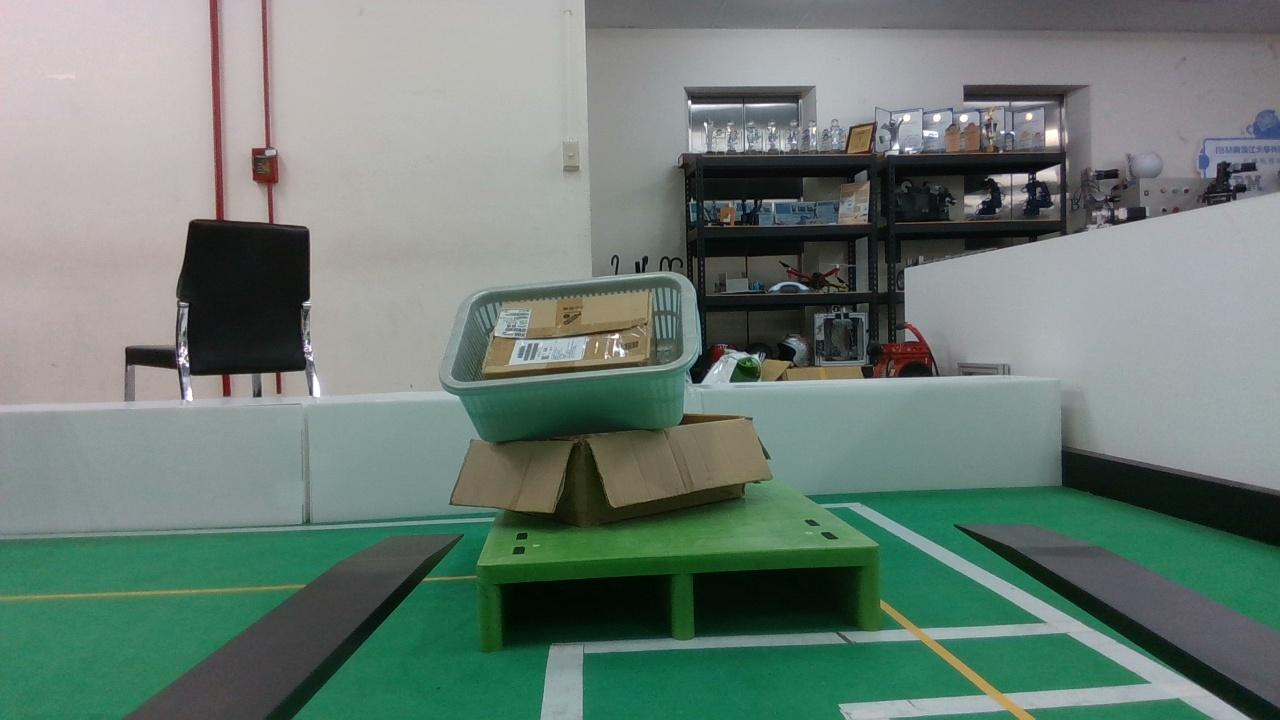Pallet: (473, 548, 882, 650)
